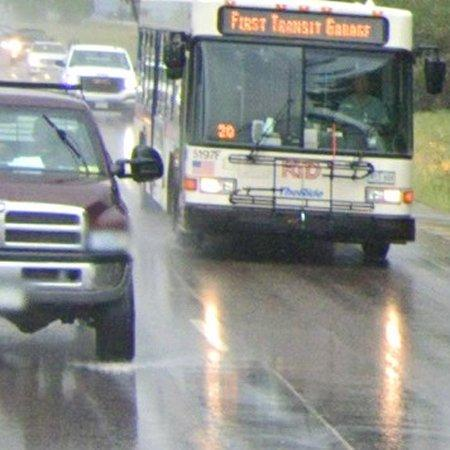buses: (137, 0, 416, 262)
